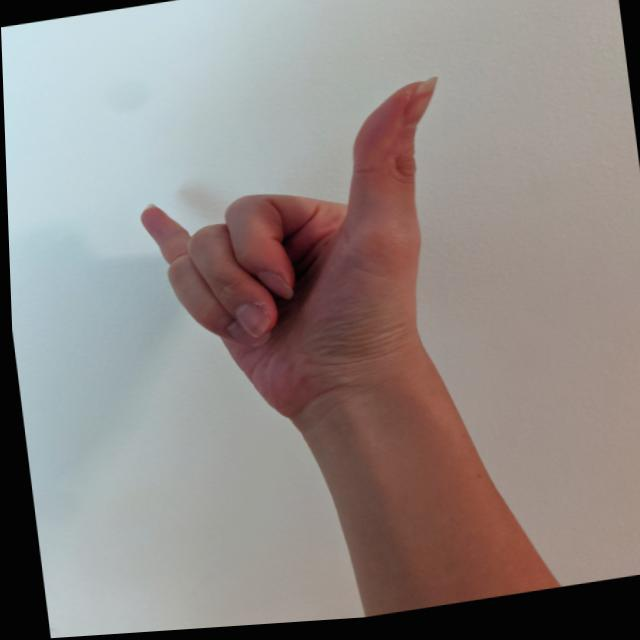Y: (120, 75, 480, 442)
